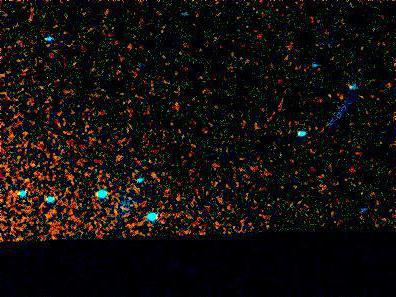star: (317, 77, 347, 107)
